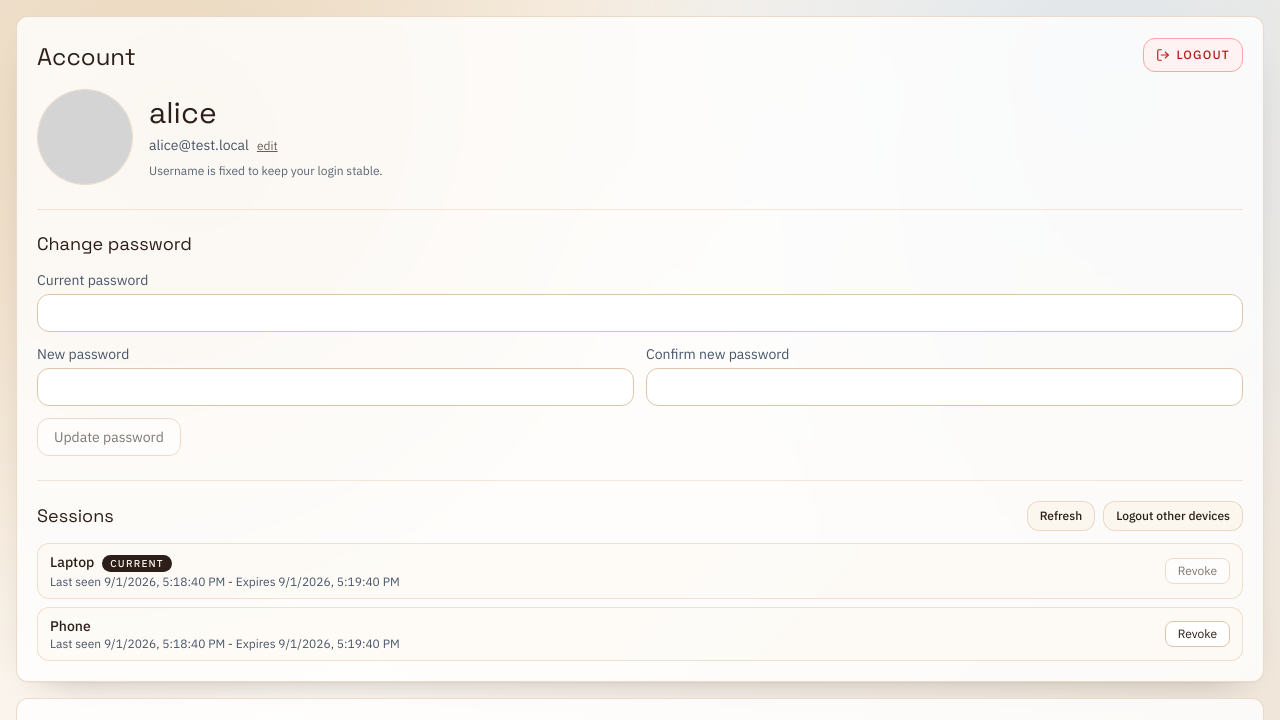
AccountView › loads, displays and revokes a targeted session
The width and height of the screenshot is (1280, 720).
Expected: the text "Laptop" is shown, [50,553,94,571]
Expected: the text "Phone" is shown, [50,617,91,635]
Step 1. Click the button "Revoke" in the row of "Phone" → (1197, 634), box [1165,621,1230,647]
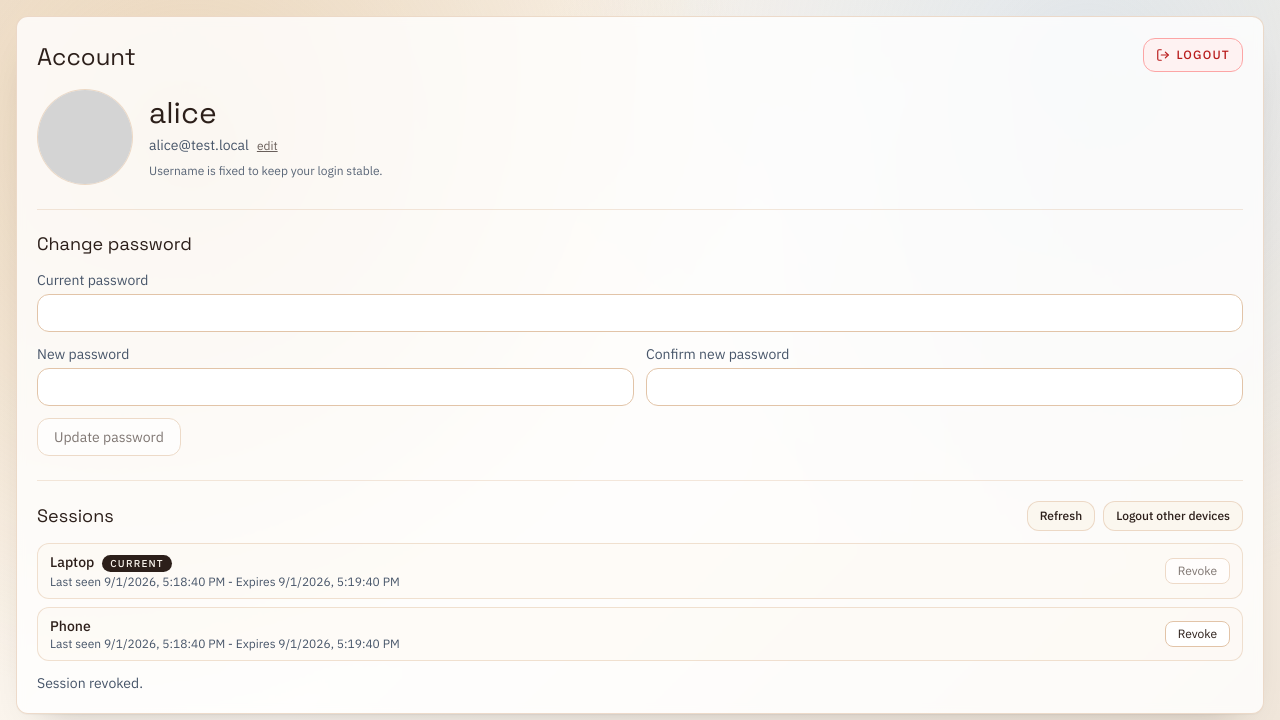
Result: the text "Session revoked." is shown at [37,674,143,692]
